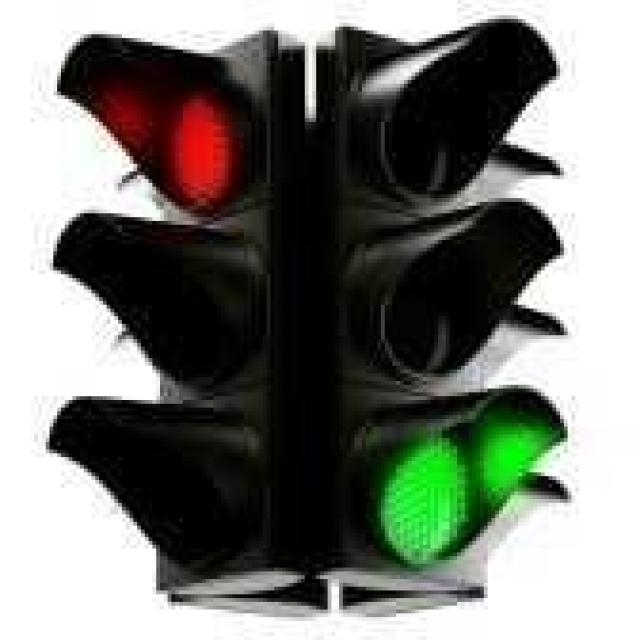Traffic Light -Green-: (263, 0, 621, 583)
Traffic Light -Red-: (4, 27, 343, 613)
